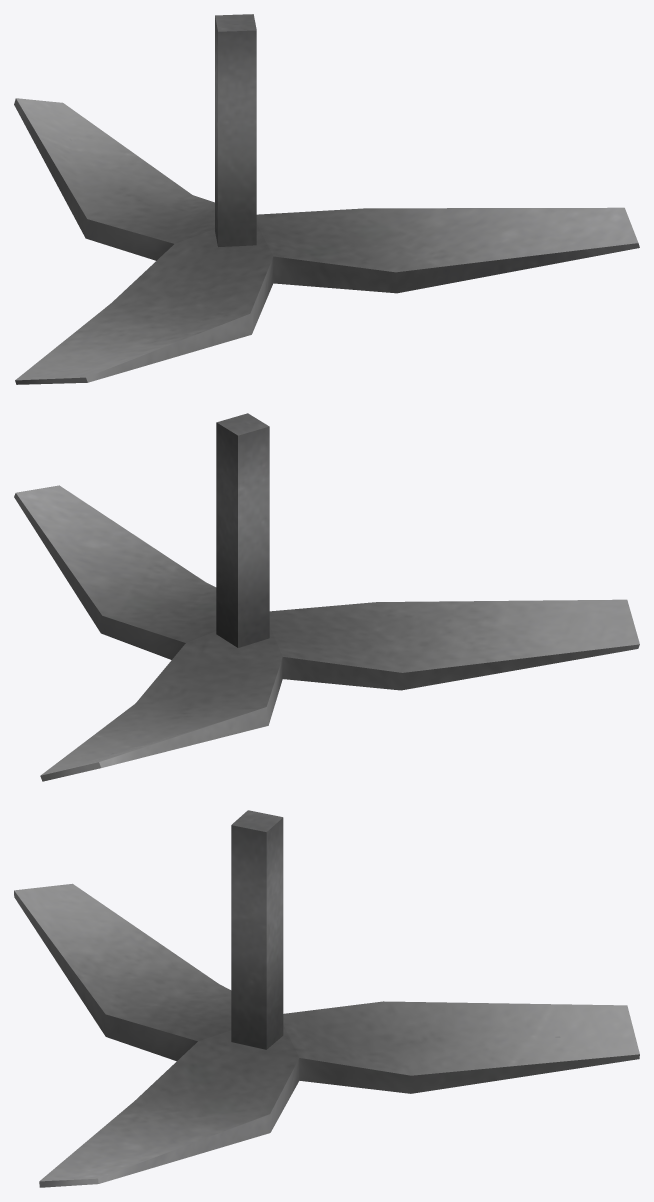
Rendered from Digdig Tak fläkt.fbx.
3 renders of one model, top to bottom at view 1: azimuth 30°, elevation 25°; view 2: azimuth 150°, elevation 25°; view 3: azimuth 270°, elevation 25°, orthographic. The views are drawn at different scales.
Parts seen in each view (by area): view 1: polySurface3; view 2: polySurface3; view 3: polySurface3.
Boxes of the visible parts, x1,y1,x2,y2 form: polySurface3: (14, 14, 639, 384); polySurface3: (14, 413, 639, 781); polySurface3: (14, 810, 639, 1187).
Size of the model in its own units: 2.78 by 1.08 by 2.39.
